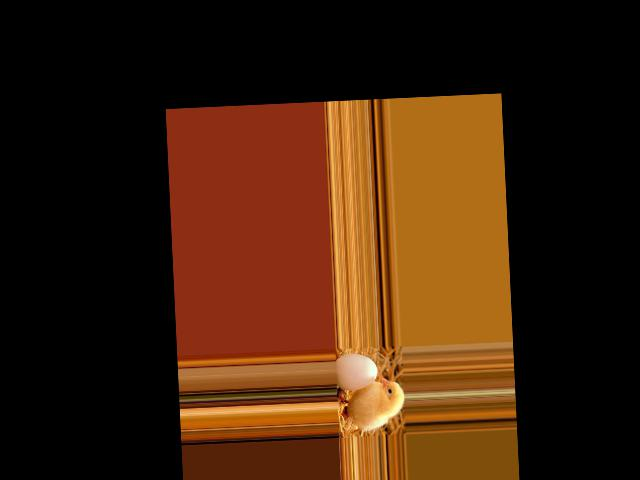egg: (334, 353, 378, 391)
